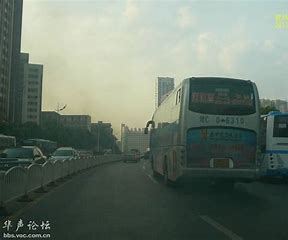smoke: (175, 174, 271, 230)
